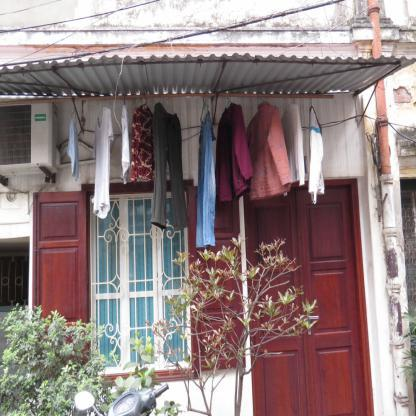door: (295, 186, 368, 416)
lever: (308, 314, 320, 322)
